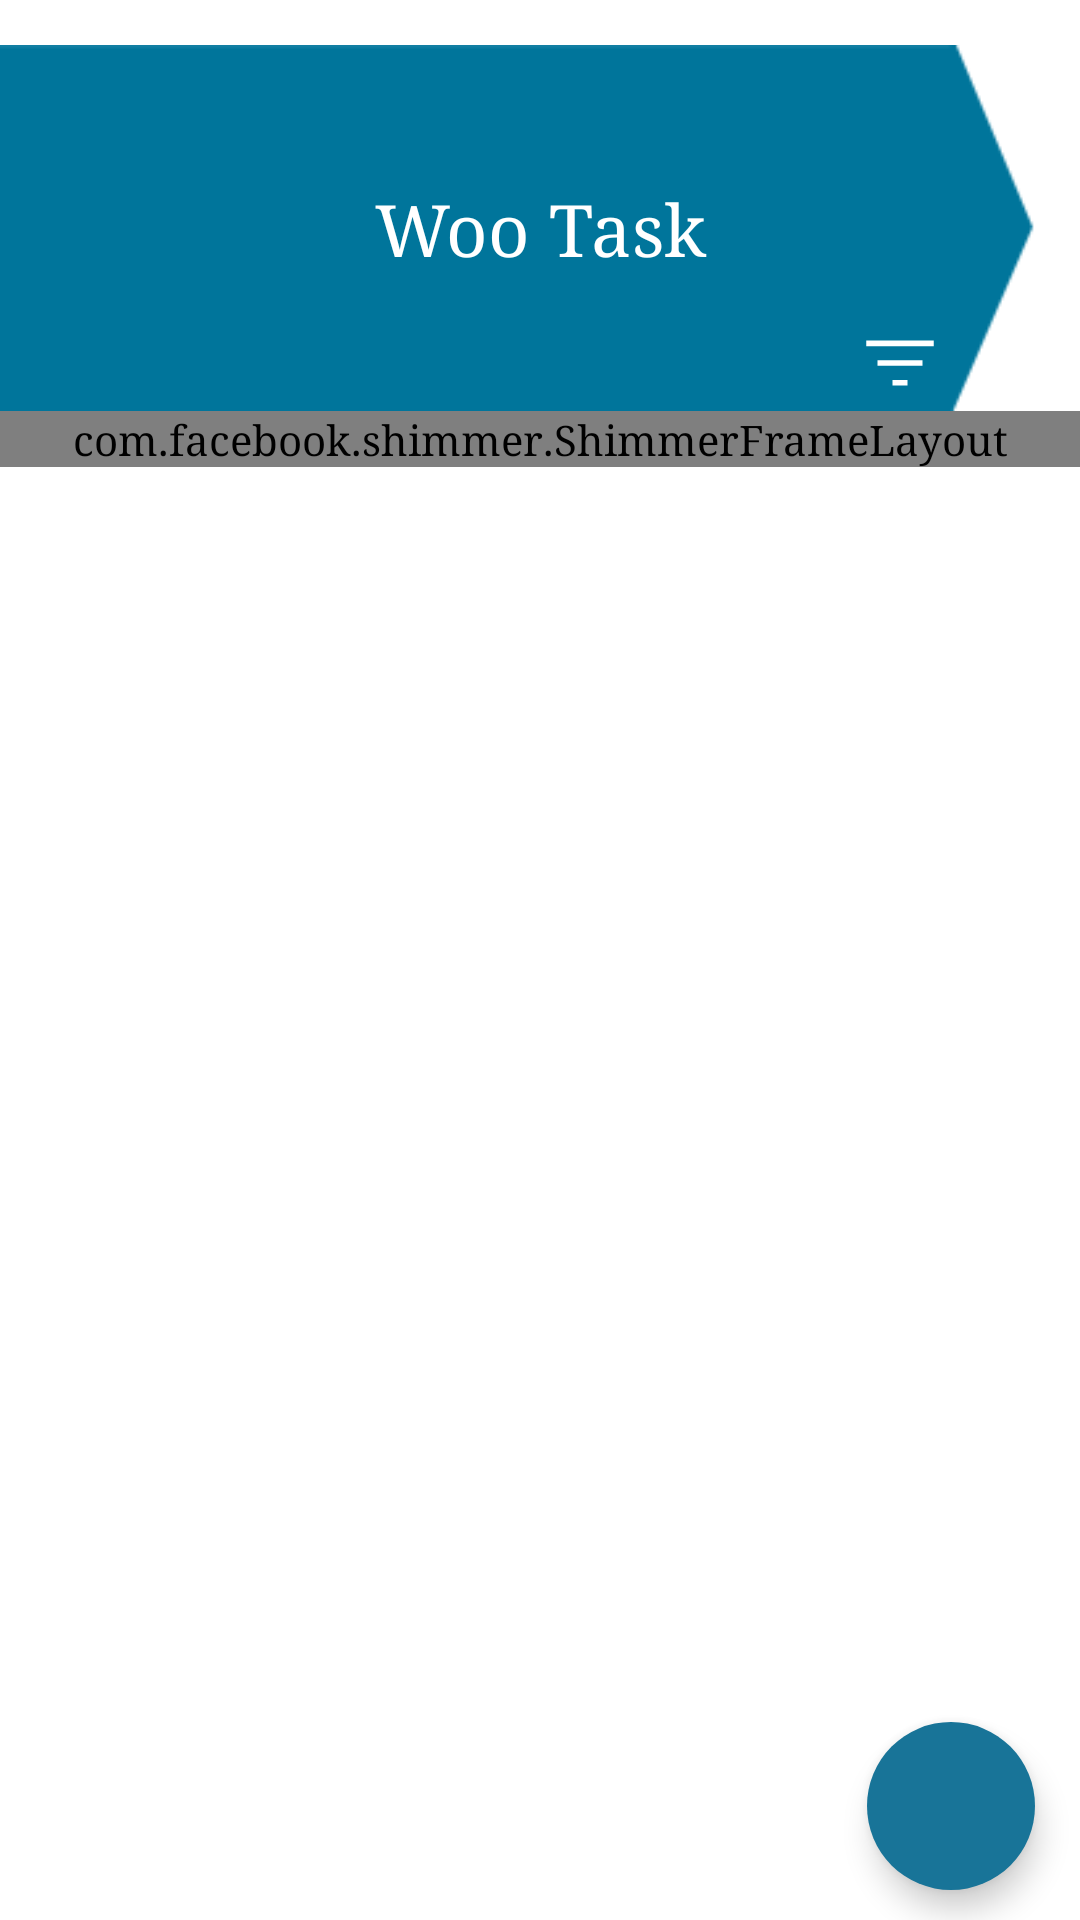

Point at icon controls on the screen. Image size 1080 × 1920, points as point (x, y).
filter: point (900, 363)
